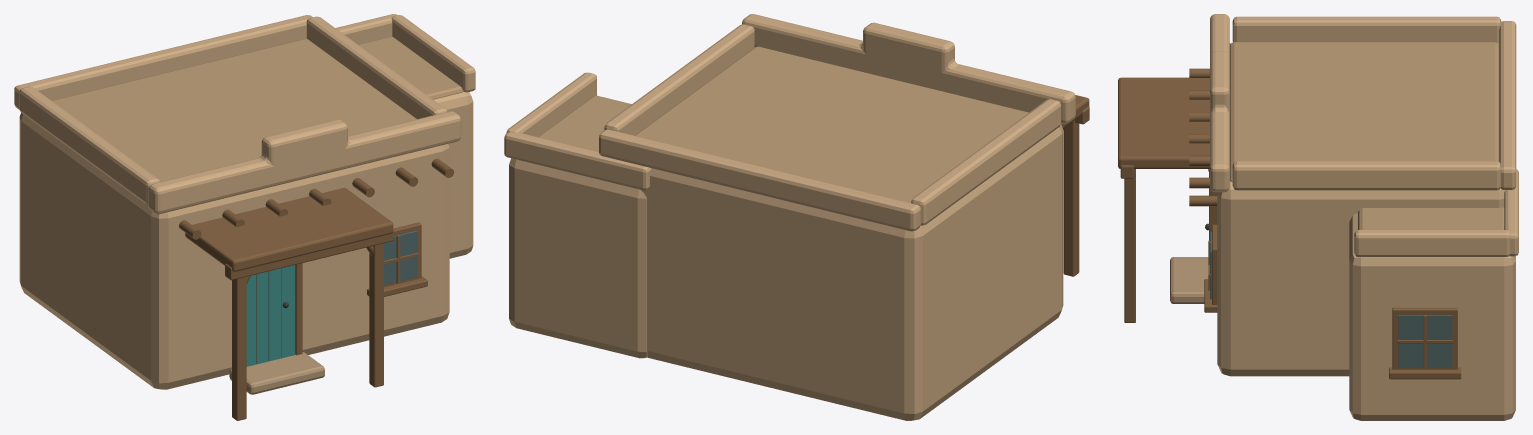
File: small_adobe_casita.glb
3 renders of one model, left to right at view 1: azimuth 30°, elevation 25°; view 2: azimuth 150°, elevation 25°; view 3: azimuth 270°, elevation 25°, orthographic. The views are drawn at different scales.
Visible parts, largest first — view 1: Casita rounded main adobe mass, Casita flat recessed roof, Casita stepped rounded front parapet, Casita portal flat timber canopy, Casita rear low parapet, Casita side parapet, Casita portal door closed door slab, Casita side parapet.001, Casita attached lower adobe wing, Casita wing flat roof, Casita wing outer parapet, Casita portal stone doorstep (+8 smaller); view 2: Casita rounded main adobe mass, Casita flat recessed roof, Casita attached lower adobe wing, Casita stepped rounded front parapet, Casita rear low parapet, Casita side parapet, Casita side parapet.001, Casita wing rear parapet, Casita portal wooden post, Casita wing flat roof, Casita wing outer parapet; view 3: Casita flat recessed roof, Casita rounded main adobe mass, Casita attached lower adobe wing, Casita side parapet.001, Casita portal flat timber canopy, Casita side parapet, Casita wing outer parapet, Casita stepped rounded front parapet, Casita wing flat roof, Casita rear low parapet, Casita wing outside window glazing, Casita portal wooden post.001 (+5 smaller).
Boxes of the visible parts, bbox=[...] form: Casita rounded main adobe mass: bbox=[19, 113, 449, 389]; Casita flat recessed roof: bbox=[52, 39, 416, 181]; Casita stepped rounded front parapet: bbox=[148, 111, 461, 214]; Casita portal flat timber canopy: bbox=[185, 187, 393, 271]; Casita rear low parapet: bbox=[14, 15, 312, 109]; Casita side parapet: bbox=[19, 86, 159, 204]; Casita portal door closed door slab: bbox=[246, 265, 295, 366]; Casita side parapet.001: bbox=[306, 16, 446, 119]; Casita attached lower adobe wing: bbox=[433, 92, 473, 258]; Casita wing flat roof: bbox=[359, 36, 463, 99]; Casita wing outer parapet: bbox=[391, 15, 475, 92]; Casita portal stone doorstep: bbox=[229, 352, 324, 394]; Casita rounded main adobe mass: bbox=[641, 124, 1063, 420]; Casita flat recessed roof: bbox=[635, 46, 1028, 202]; Casita attached lower adobe wing: bbox=[509, 158, 647, 358]; Casita stepped rounded front parapet: bbox=[742, 14, 1075, 123]; Casita rear low parapet: bbox=[599, 129, 920, 231]; Casita side parapet: bbox=[911, 99, 1061, 225]; Casita side parapet.001: bbox=[604, 24, 754, 135]; Casita wing rear parapet: bbox=[504, 131, 650, 190]; Casita portal wooden post: bbox=[1063, 120, 1079, 276]; Casita wing flat roof: bbox=[538, 95, 631, 151]; Casita wing outer parapet: bbox=[506, 72, 596, 136]; Casita flat recessed roof: bbox=[1230, 42, 1499, 182]; Casita rounded main adobe mass: bbox=[1217, 43, 1505, 376]; Casita attached lower adobe wing: bbox=[1349, 213, 1515, 420]; Casita side parapet.001: bbox=[1232, 161, 1501, 190]; Casita portal flat timber canopy: bbox=[1118, 77, 1209, 168]; Casita side parapet: bbox=[1232, 16, 1501, 43]; Casita wing outer parapet: bbox=[1354, 230, 1510, 256]; Casita stepped rounded front parapet: bbox=[1210, 14, 1229, 192]; Casita wing flat roof: bbox=[1358, 207, 1504, 229]; Casita rear low parapet: bbox=[1499, 21, 1516, 189]; Casita wing outside window glazing: bbox=[1398, 315, 1452, 367]; Casita portal wooden post.001: bbox=[1124, 169, 1135, 322].
Bounding box in the file's own units: 6.46 × 3.55 × 5.44.
